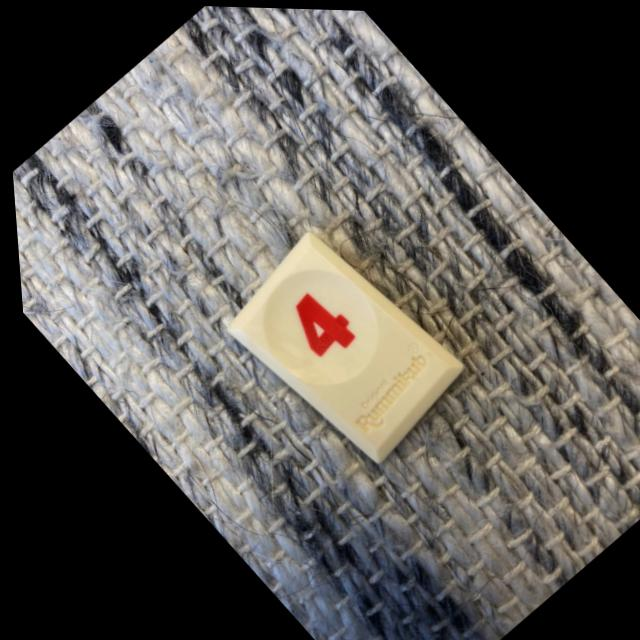red_4: (223, 230, 458, 460)
